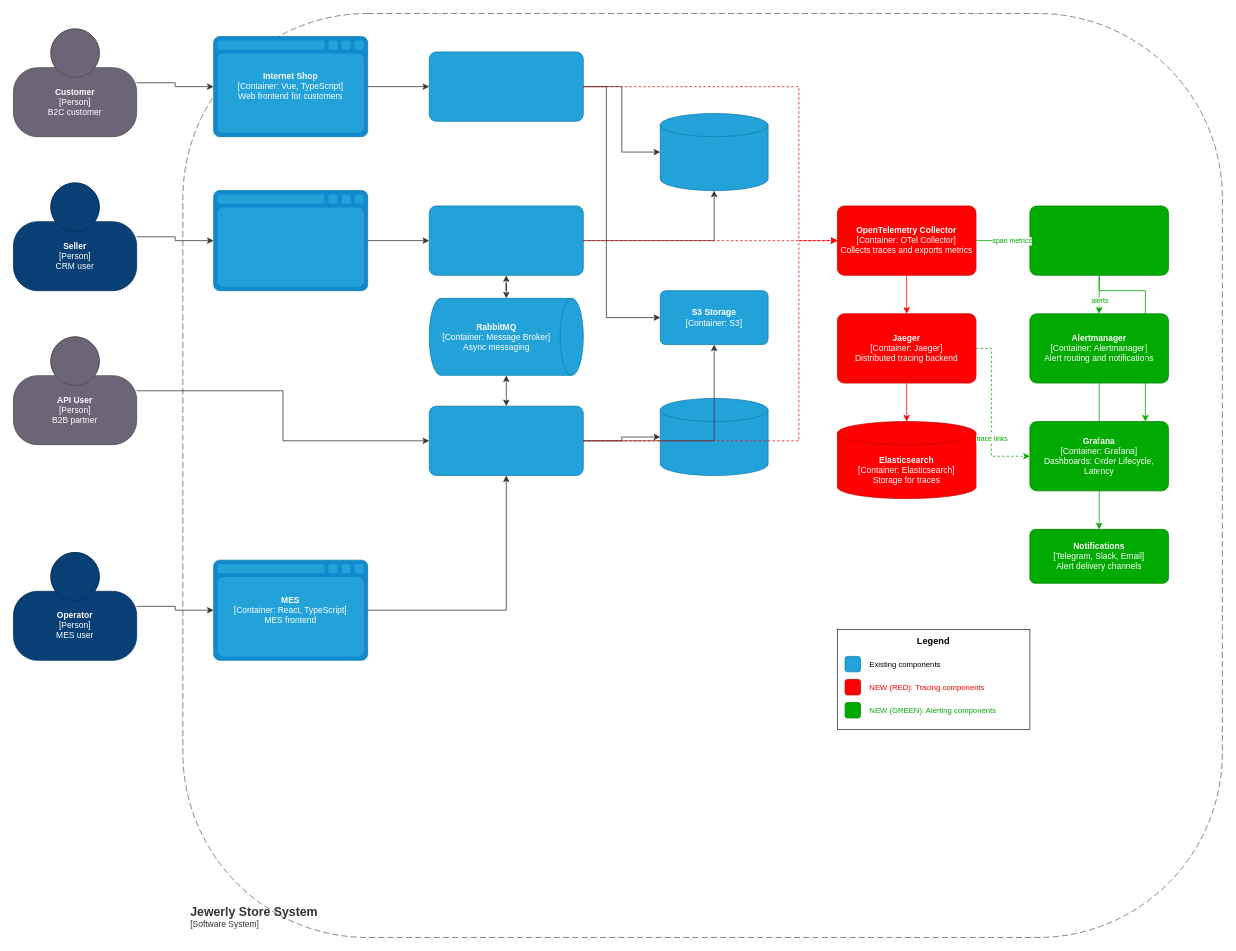
This 1236x951 diagram has some shape labels left out. Here are the shapes that lost their labels. From the top down, the centre of each, then its label:
the point at 506,86: Shop API [Container: Spring Boot + OTel] Shop backend with tracing
the point at 714,152: Shop DB [Container: PostgreSQL]
the point at 290,240: CRM [Container: Vue, TypeScript] CRM frontend
the point at 506,240: CRM API [Container: Spring Boot + OTel] CRM backend with tracing
the point at 1098,240: Prometheus [Container: Prometheus] Metrics from traces (span metrics)
the point at 506,440: MES API [Container: C# + OTel] MES backend with tracing
the point at 714,436: MES DB [Container: PostgreSQL]
